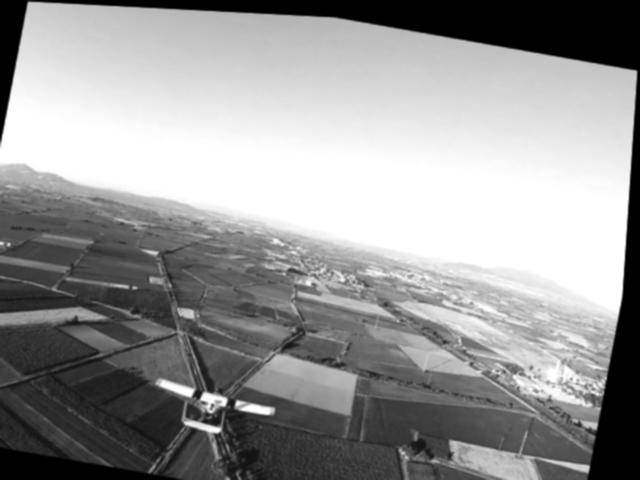hedef: (150, 366, 295, 443)
